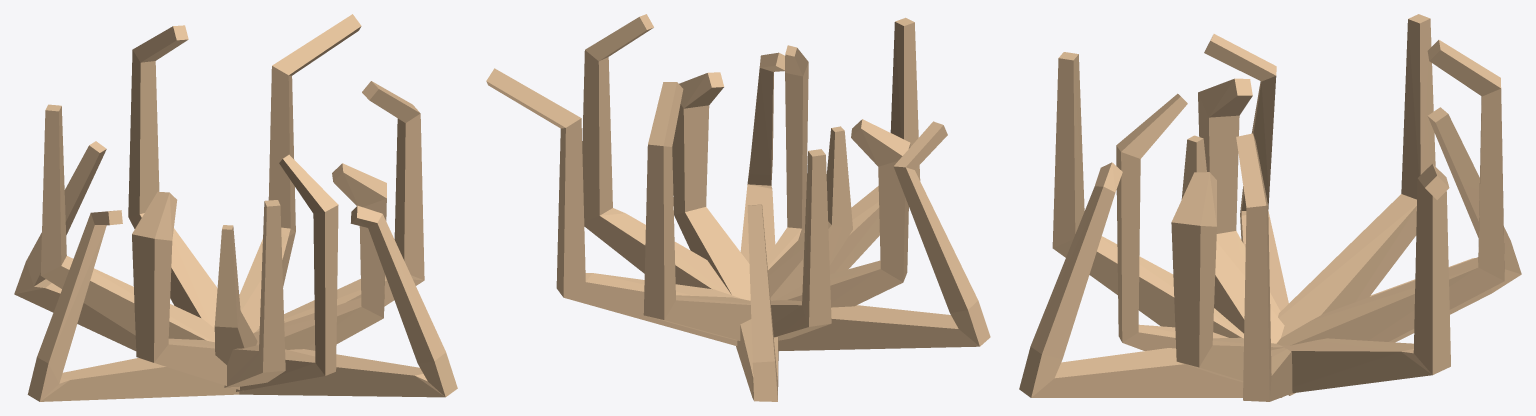
File: dessert_plant_04.fbx
The picture shows the model from 3 angles, left to right: view 1: azimuth 30°, elevation 25°; view 2: azimuth 150°, elevation 25°; view 3: azimuth 270°, elevation 25°; orthographic projection. The views are drawn at different scales.
Parts seen in each view (by area): view 1: dessert_plant_04; view 2: dessert_plant_04; view 3: dessert_plant_04.
Part boxes in pixels (left/top/right/bottom): dessert_plant_04: left=14, top=14, right=457, bottom=401; dessert_plant_04: left=486, top=14, right=990, bottom=401; dessert_plant_04: left=1019, top=14, right=1521, bottom=401.
Bounding box in the file's own units: 94.38 × 68 × 88.01.
